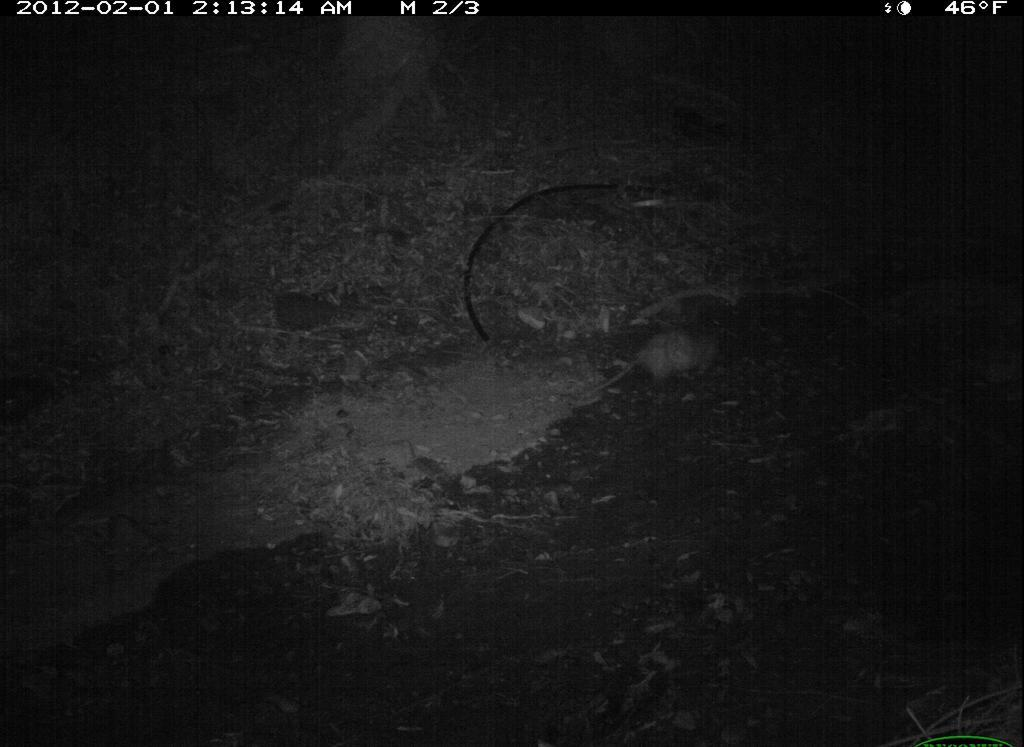opossum: (575, 317, 738, 406)
